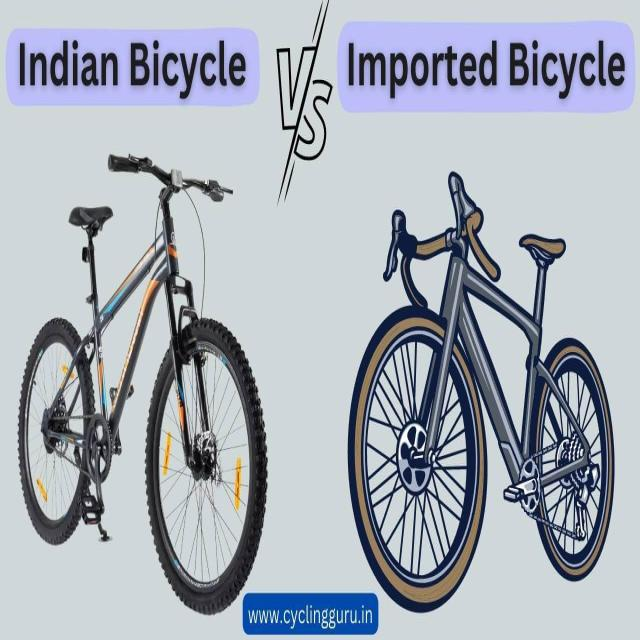bicycle: (349, 171, 614, 611), (19, 153, 266, 613)
